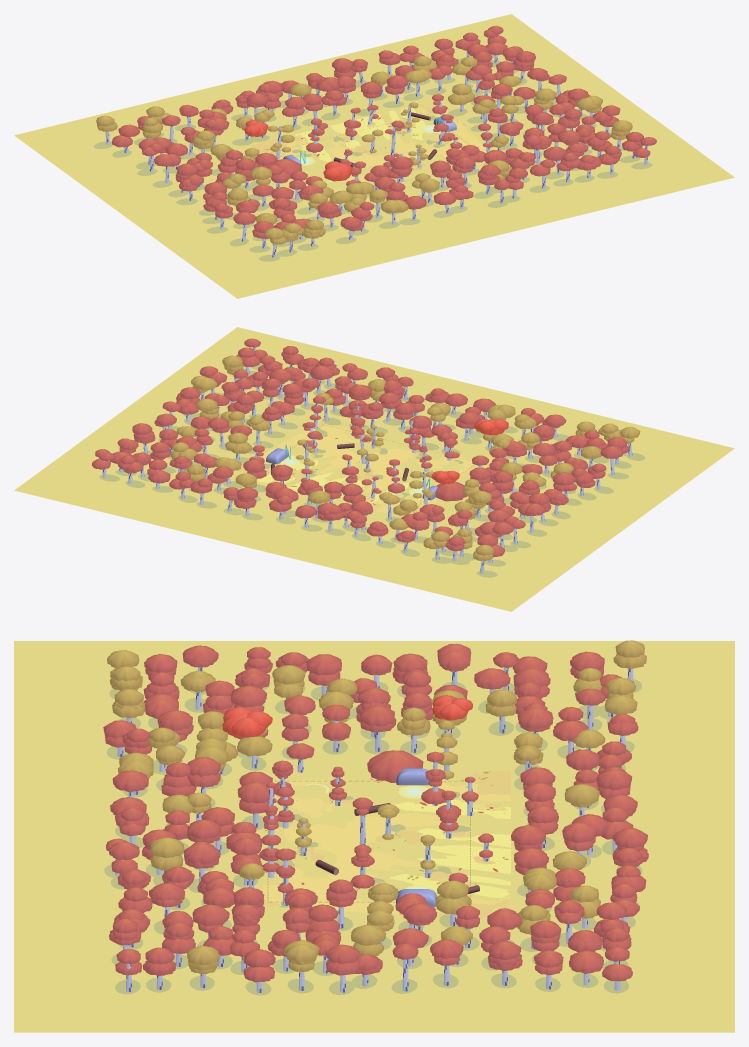
File: plaza.glb
The picture shows the model from 3 angles, top to bottom: view 1: azimuth 30°, elevation 25°; view 2: azimuth 150°, elevation 25°; view 3: azimuth 270°, elevation 25°; orthographic projection. The views are drawn at different scales.
Parts seen in each view (by area): view 1: GROUND, SAND_0_2; view 2: GROUND, SAND_0_2, CANOPY_7_0; view 3: GROUND, SAND_0_2, SAND_1_3, CANOPY_7_0, SAND_2_14, SAND_1_5, SAND_0_0, OCANOPY_118_1, OCANOPY_29_1, OCANOPY_5_3, OCANOPY_22_1.
Part boxes in pixels (<box>): GROUND: <box>14,14,734,298</box>; SAND_0_2: <box>329,107,486,182</box>; GROUND: <box>14,327,734,611</box>; SAND_0_2: <box>242,424,419,492</box>; CANOPY_7_0: <box>435,482,466,501</box>; GROUND: <box>14,641,734,1032</box>; SAND_0_2: <box>263,813,510,914</box>; SAND_1_3: <box>417,845,510,873</box>; CANOPY_7_0: <box>367,750,423,782</box>; SAND_2_14: <box>445,770,510,794</box>; SAND_1_5: <box>394,799,510,819</box>; SAND_0_0: <box>272,779,334,817</box>; OCANOPY_118_1: <box>192,904,229,926</box>; OCANOPY_29_1: <box>231,685,266,707</box>; OCANOPY_5_3: <box>306,654,341,675</box>; OCANOPY_22_1: <box>474,668,510,689</box>.
Size of the model in its own units: 180 by 13.69 by 140.
